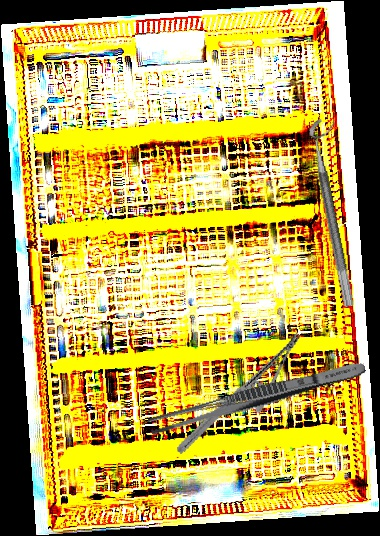Dressing Forceps: (147, 355, 368, 440)
Fixation Ring: (306, 116, 371, 308)
Needle Holder: (175, 308, 303, 478)
